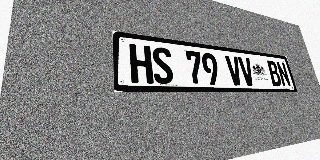7: (184, 50, 205, 85)
9: (200, 52, 221, 85)
B: (266, 60, 282, 86)
H: (129, 44, 154, 84)
N: (275, 61, 291, 87)
S: (151, 46, 174, 84)
V: (225, 55, 244, 86), (237, 57, 256, 86)
